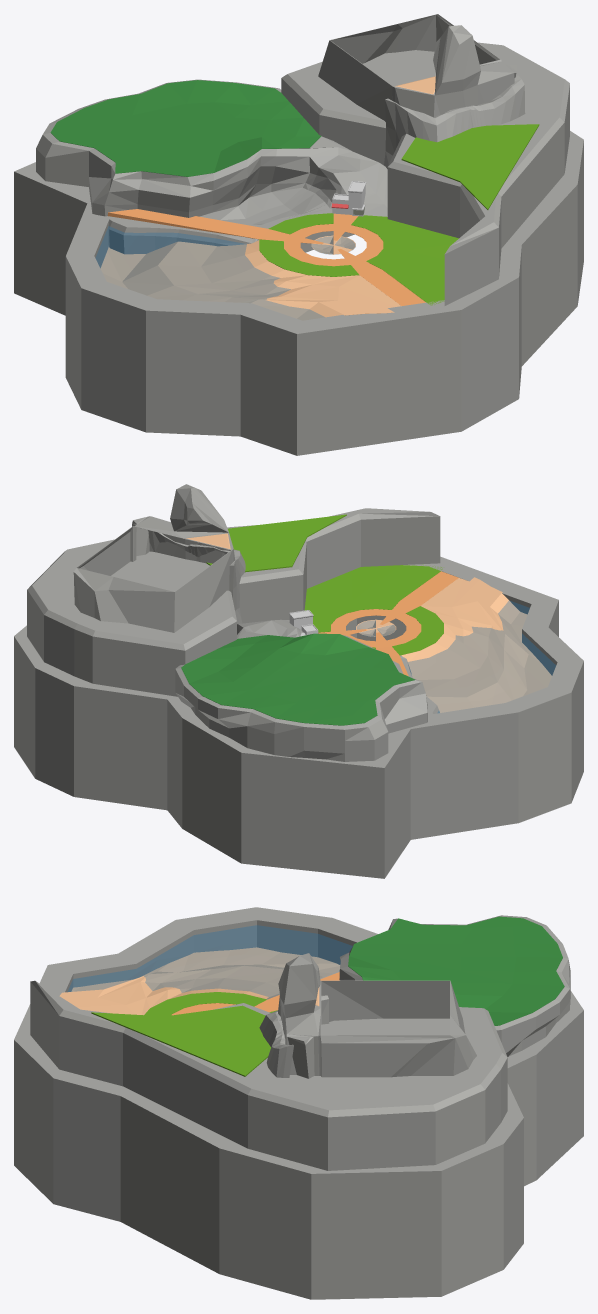
File: zoo build.v0.1.fbx
3 views of the same model, one above another, from view 1: azimuth 30°, elevation 25°; view 2: azimuth 150°, elevation 25°; view 3: azimuth 270°, elevation 25° (orthographic). The views are drawn at different scales.
Parts seen in each view (by area): view 1: rock, top_grass, sand, Cube, water, bottom_grass, middle_grass, path, lower_cube, Building_30; view 2: rock, top_grass, sand, Cube, water, bottom_grass, middle_grass, path, lower_cube, Building_30; view 3: rock, Cube, top_grass, water, sand, middle_grass, lower_cube, bottom_grass, path.
Part boxes in pixels (x1=…): rock: x1=14, y1=42, x2=583, y2=455; top_grass: x1=50, y1=80, x2=321, y2=176; sand: x1=100, y1=235, x2=401, y2=320; Cube: x1=318, y1=14, x2=517, y2=121; water: x1=95, y1=226, x2=355, y2=320; bottom_grass: x1=259, y1=213, x2=458, y2=305; middle_grass: x1=401, y1=124, x2=539, y2=209; path: x1=107, y1=209, x2=425, y2=305; lower_cube: x1=384, y1=75, x2=525, y2=168; Building_30: x1=332, y1=181, x2=366, y2=216; rock: x1=14, y1=508, x2=583, y2=878; top_grass: x1=181, y1=633, x2=415, y2=725; sand: x1=356, y1=577, x2=551, y2=712; Cube: x1=73, y1=484, x2=234, y2=632; water: x1=357, y1=600, x2=555, y2=712; bottom_grass: x1=304, y1=564, x2=443, y2=655; middle_grass: x1=206, y1=514, x2=346, y2=572; path: x1=319, y1=571, x2=458, y2=676; lower_cube: x1=148, y1=530, x2=245, y2=624; Building_30: x1=289, y1=610, x2=318, y2=636; rock: x1=14, y1=907, x2=583, y2=1299; Cube: x1=278, y1=953, x2=476, y2=1078; top_grass: x1=348, y1=916, x2=564, y2=1025; water: x1=67, y1=925, x2=352, y2=996; sand: x1=59, y1=947, x2=339, y2=1015; middle_grass: x1=91, y1=1005, x2=270, y2=1076; lower_cube: x1=259, y1=995, x2=329, y2=1077; bottom_grass: x1=144, y1=992, x2=277, y2=1016; path: x1=171, y1=972, x2=339, y2=1015.
Bounding box in the file's own units: 982 × 477 × 886.
